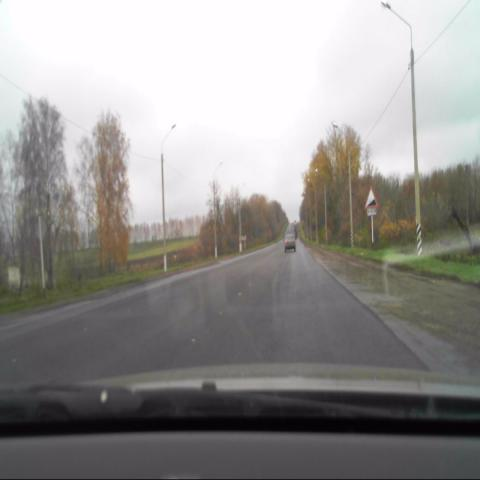1_14: (365, 185, 377, 207)
